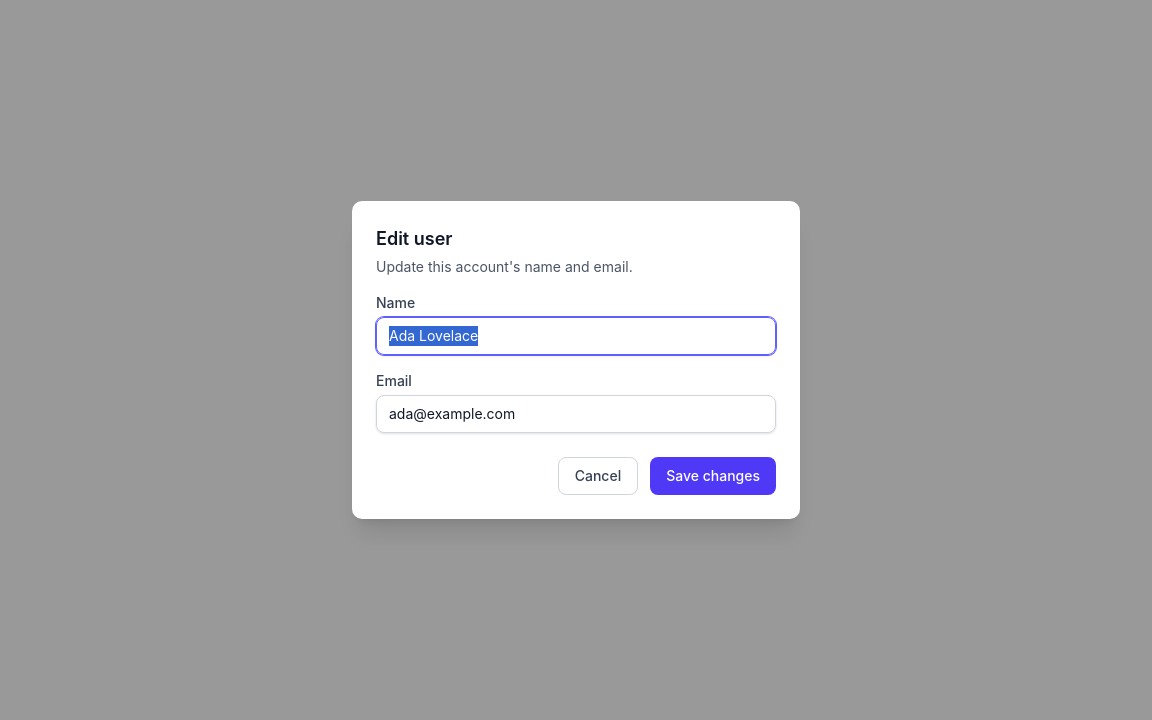
Test case: EditUserModal › surfaces the server error message and stays open on failure
Click the button "Save changes" at (713, 476), box x1=650 y1=457 x2=776 y2=495
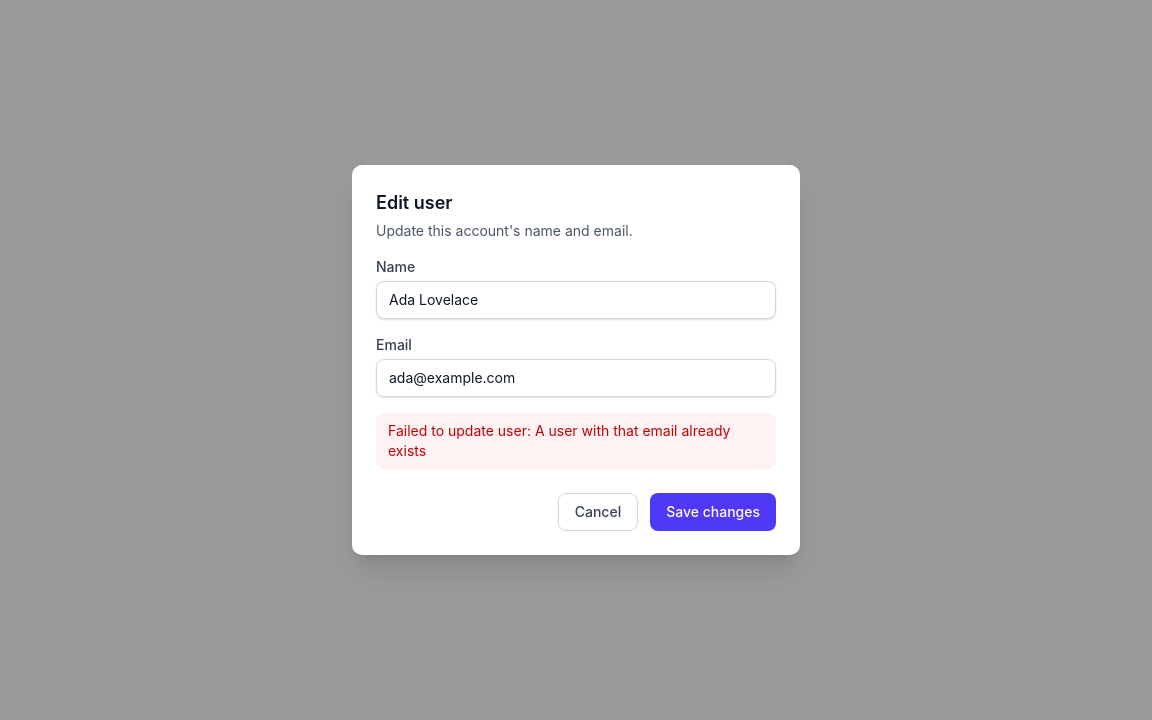
Expected: the text "Failed to update user: A user with that email already exists" is shown, x1=376 y1=413 x2=776 y2=469
